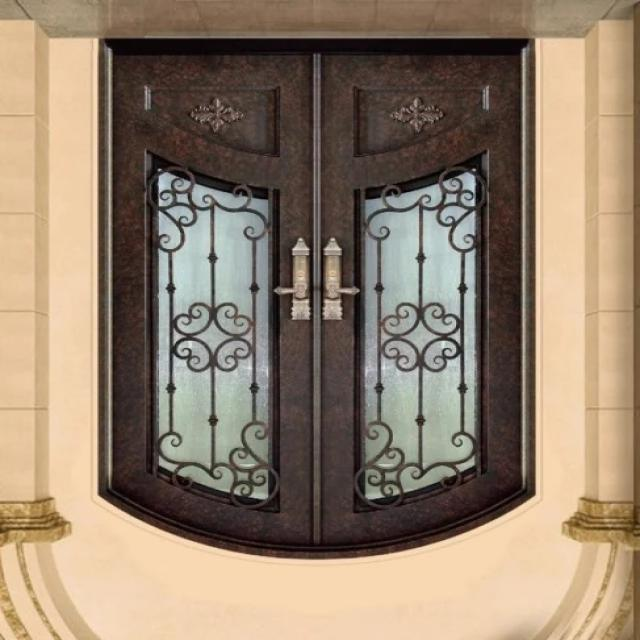door: (98, 41, 535, 561)
